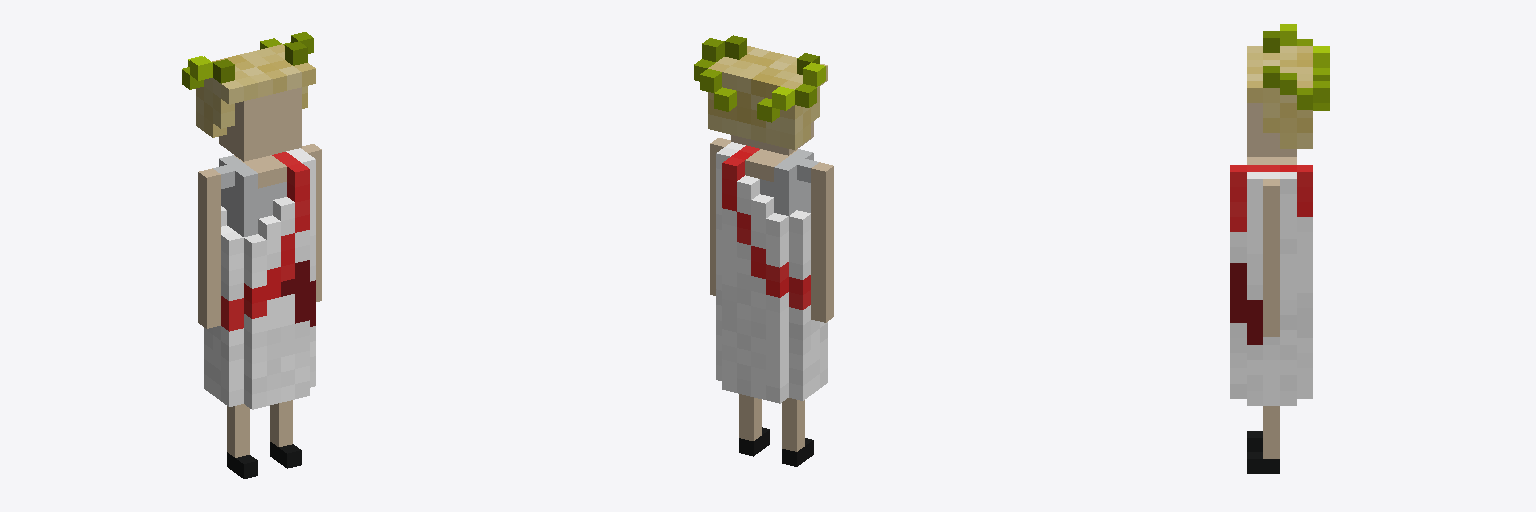
3 renders of one model, left to right at view 1: azimuth 30°, elevation 25°; view 2: azimuth 150°, elevation 25°; view 3: azimuth 270°, elevation 25°, orthographic.
Parts seen in each view (by area): view 1: model_roman.obj; view 2: model_roman.obj; view 3: model_roman.obj.
Boxes of the visible parts, x1=… form: model_roman.obj: x1=182, y1=32, x2=321, y2=478; model_roman.obj: x1=694, y1=35, x2=833, y2=466; model_roman.obj: x1=1230, y1=24, x2=1329, y2=473.
Bounding box in the file's own units: 8 × 27 × 6.
1 materials, 1 textured.